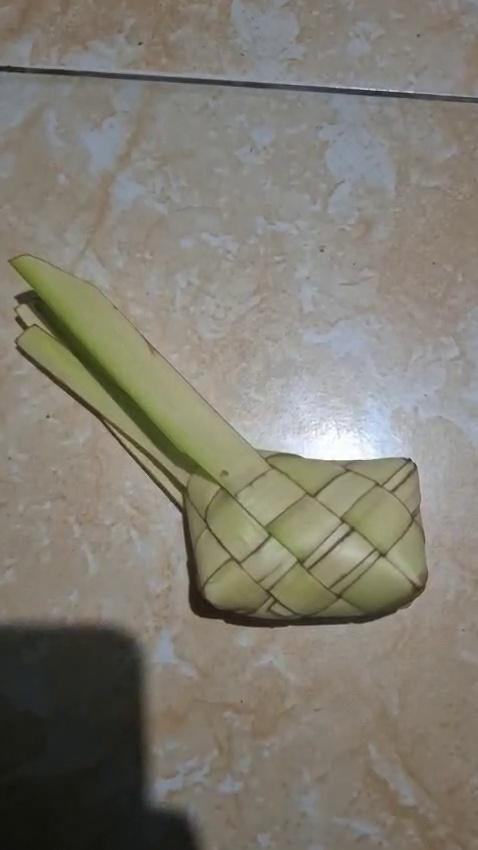Tipat Bantal: (15, 253, 426, 626)
